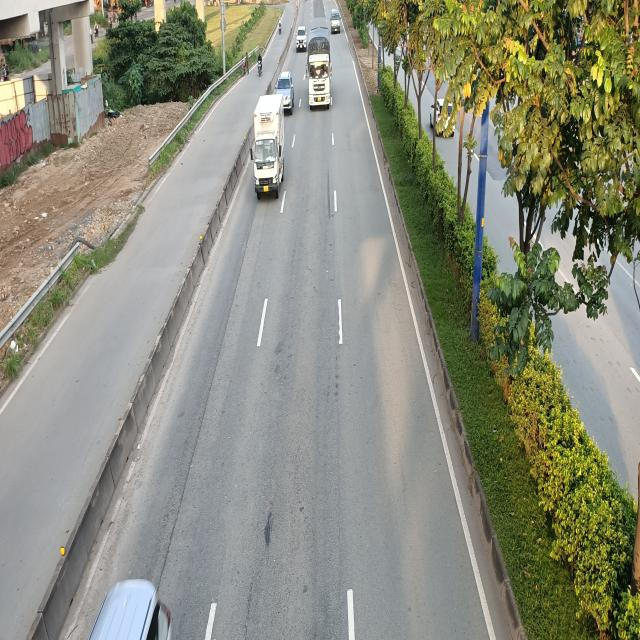car: (277, 72, 294, 116), (295, 27, 307, 52), (330, 9, 340, 33)
truck: (252, 94, 287, 198), (306, 26, 331, 110)
